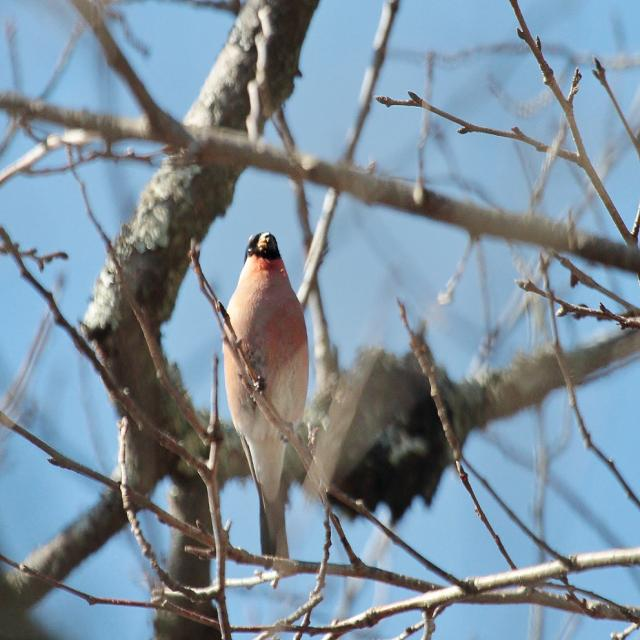bird: (223, 226, 325, 572)
